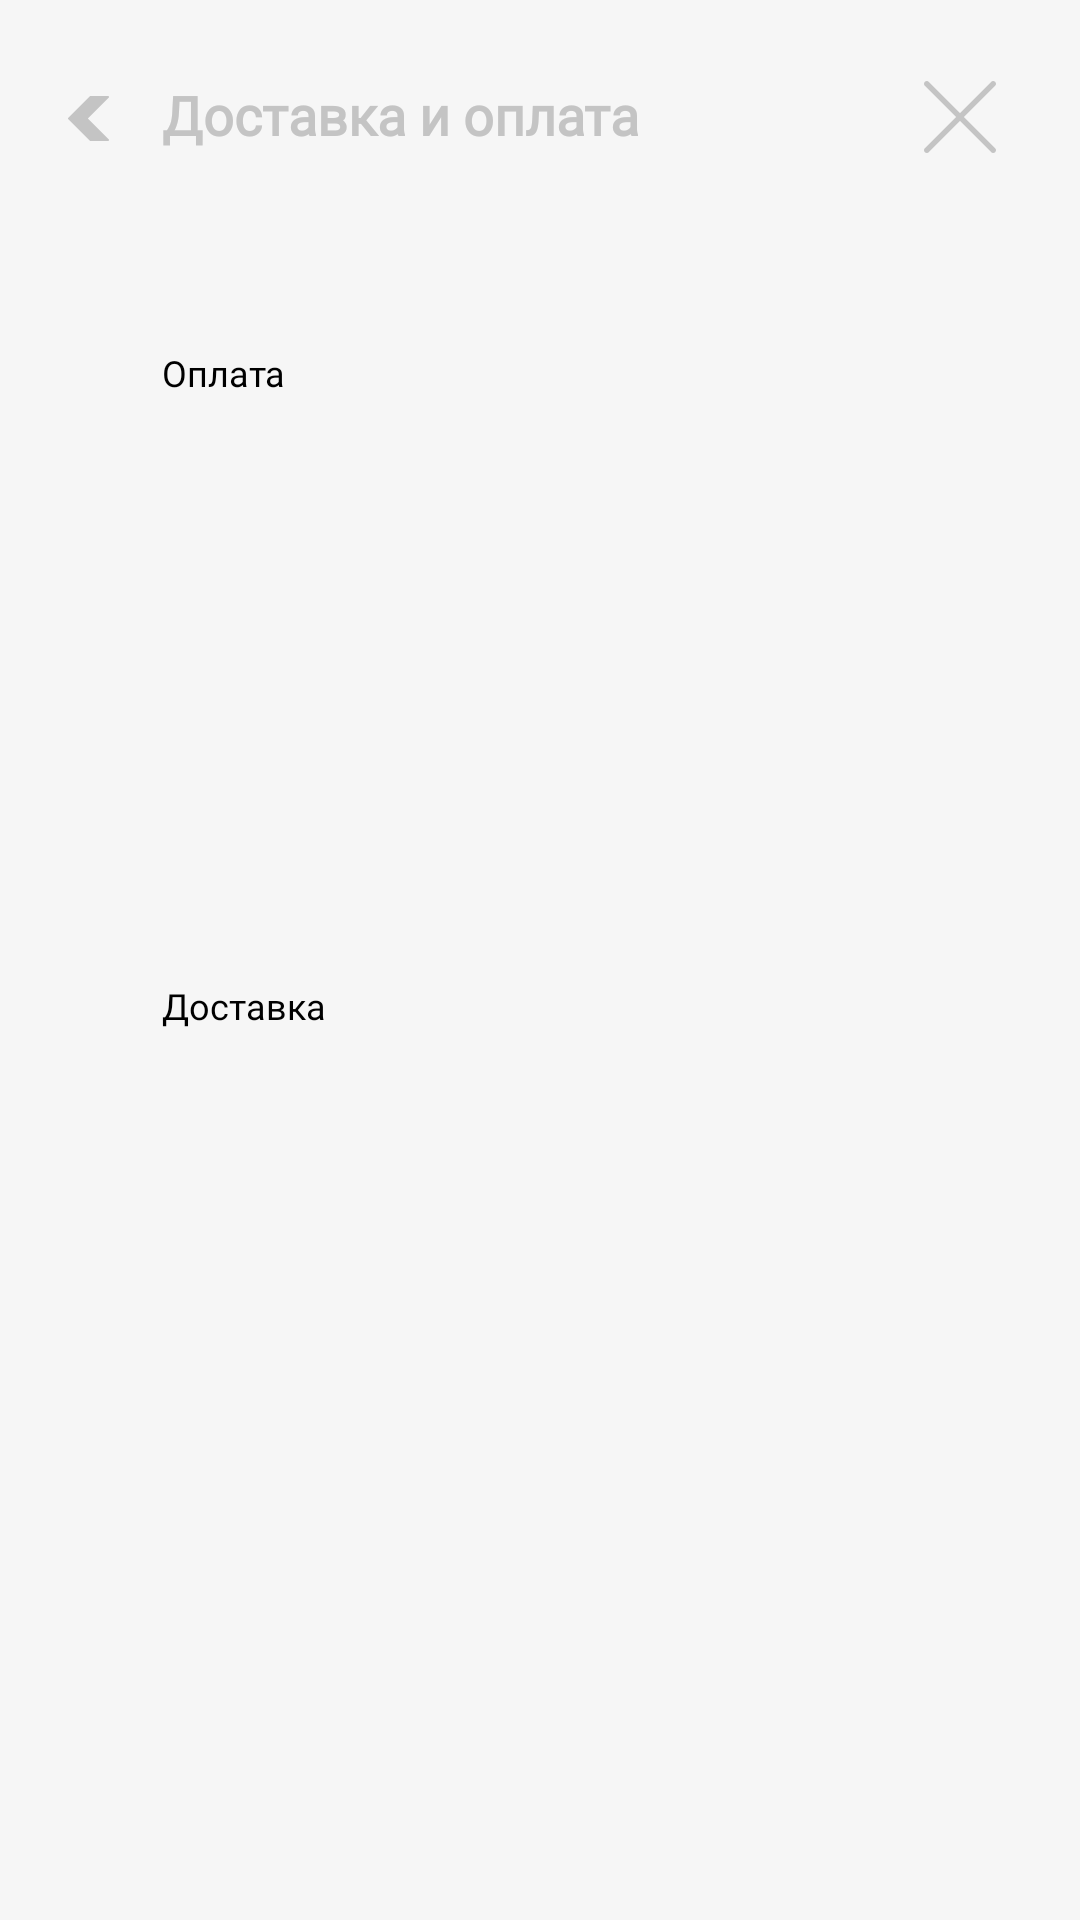

Screen size 1080w x 1920h. Icon name, then its center in pixels as (x=x, y=y):
cancel: (x=960, y=117)
